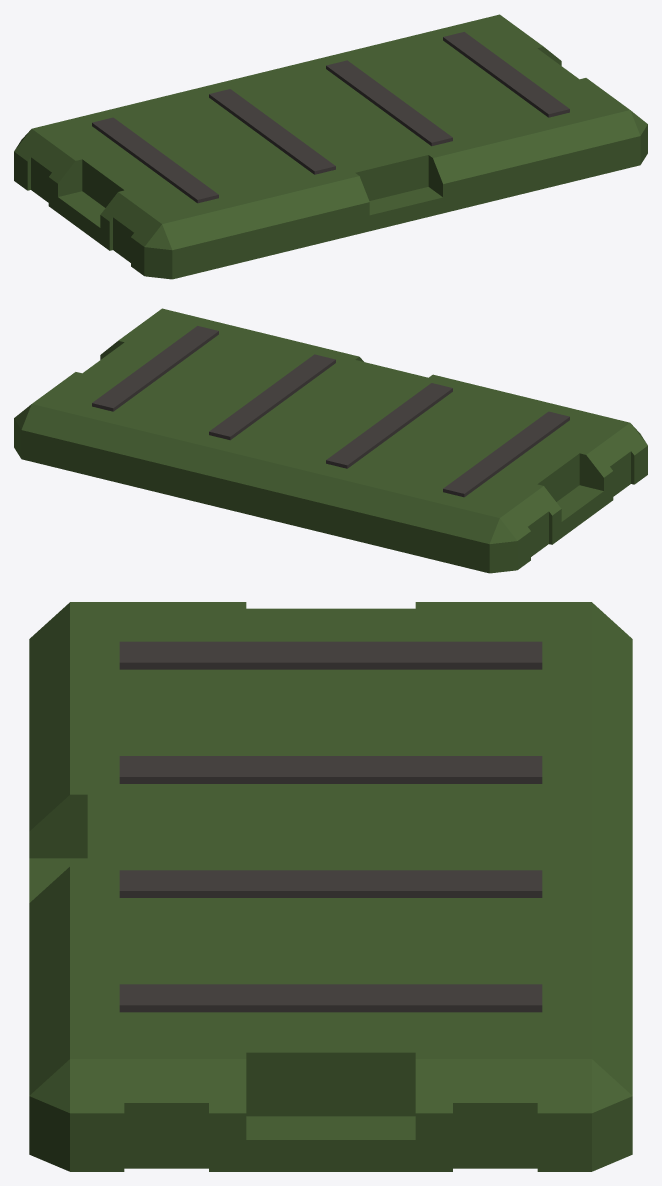
The model's file is BigAmoBox_03_2.fbx.
The picture shows the model from 3 angles, top to bottom: view 1: azimuth 30°, elevation 25°; view 2: azimuth 150°, elevation 25°; view 3: azimuth 270°, elevation 25°; orthographic projection. The views are drawn at different scales.
Visible parts, largest first — view 1: BigAmoBox_03_2; view 2: BigAmoBox_03_2; view 3: BigAmoBox_03_2.
Part boxes in pixels (bbox=[...]): BigAmoBox_03_2: bbox=[14, 14, 647, 279]; BigAmoBox_03_2: bbox=[14, 308, 647, 573]; BigAmoBox_03_2: bbox=[29, 602, 632, 1171].
Bounding box in the file's own units: 0.9434 × 0.0918 × 0.4897.
